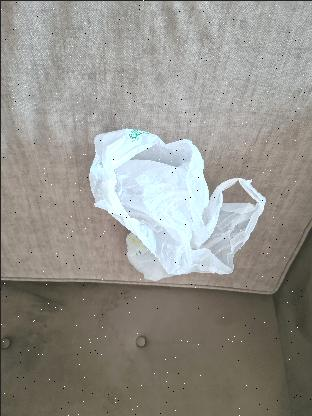Others: (87, 128, 265, 284)
